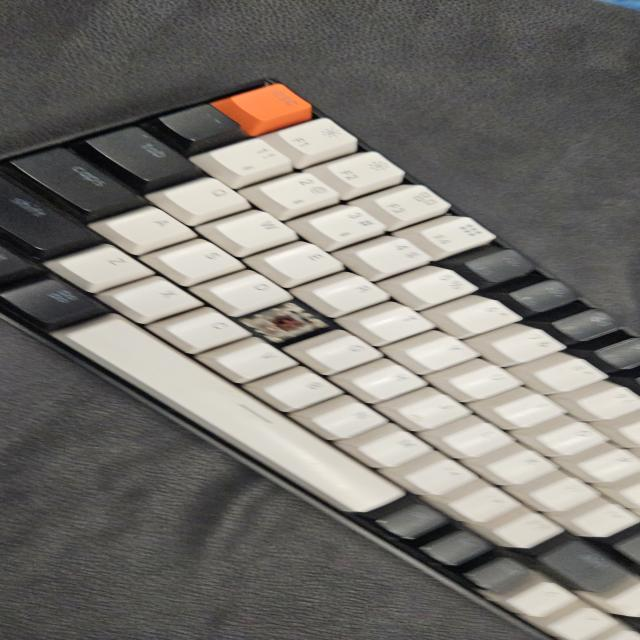C: (257, 310, 318, 338)
